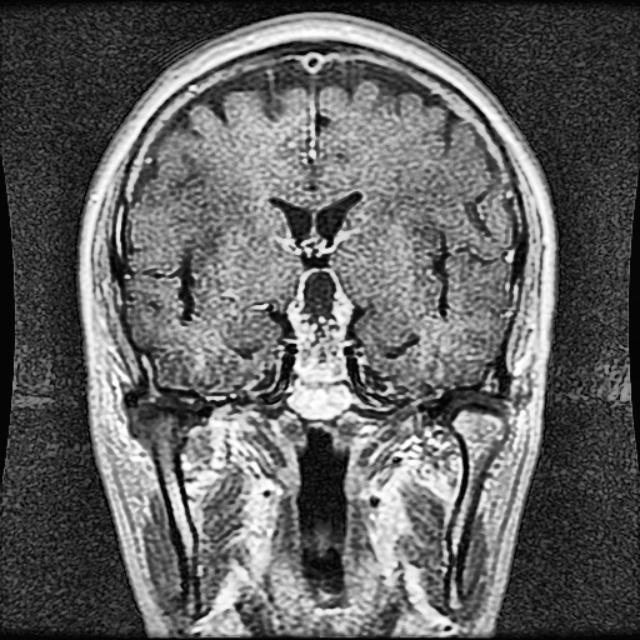Pituitary: (288, 265, 354, 380)
